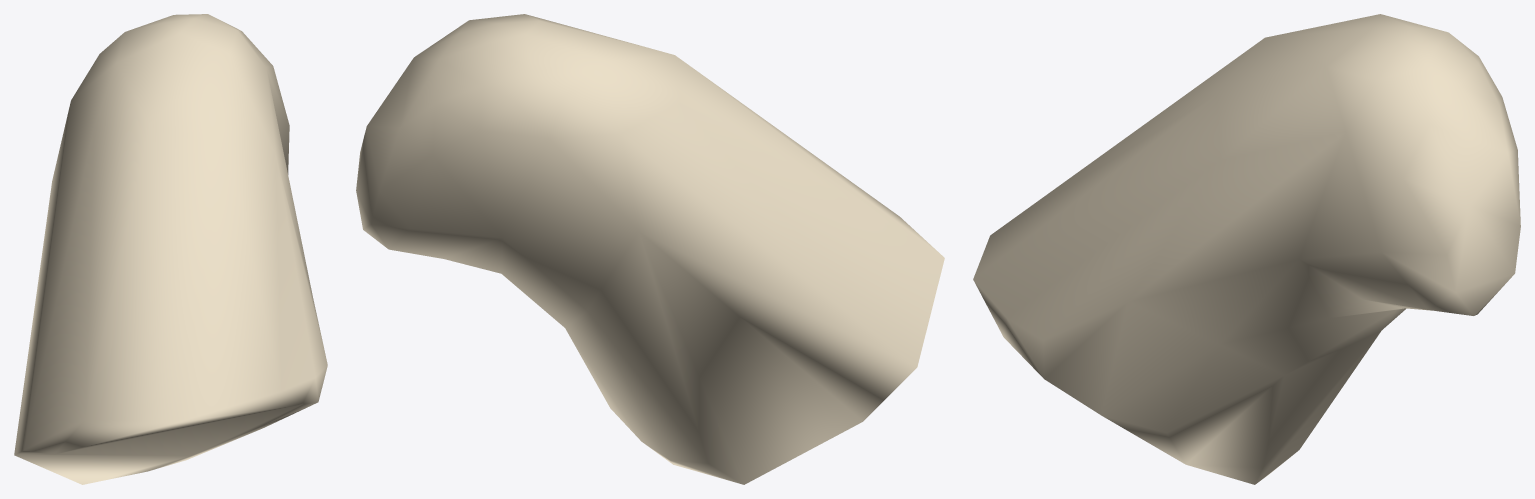
The model's file is corniculate-cartilage-r.glb.
3 views of the same model, side by side, from view 1: azimuth 30°, elevation 25°; view 2: azimuth 150°, elevation 25°; view 3: azimuth 270°, elevation 25° (orthographic). The views are drawn at different scales.
Visible parts, largest first — view 1: Corniculate cartilage.r; view 2: Corniculate cartilage.r; view 3: Corniculate cartilage.r.
Part boxes in pixels (bbox=[...]): Corniculate cartilage.r: bbox=[14, 14, 327, 484]; Corniculate cartilage.r: bbox=[356, 14, 944, 484]; Corniculate cartilage.r: bbox=[973, 14, 1520, 484].
Bounding box in the file's own units: 0.00151 × 0.00156 × 0.00158.
